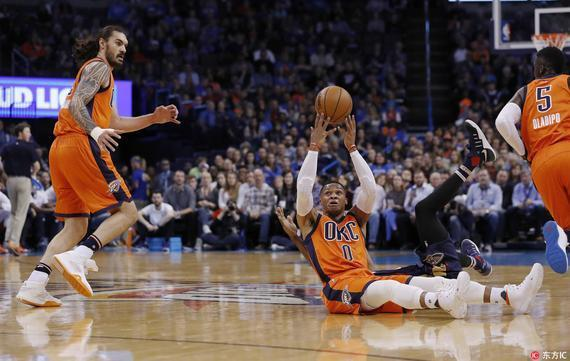bending: (499, 41, 570, 276)
down: (295, 160, 522, 320)
up: (16, 21, 183, 312), (1, 111, 40, 262)
